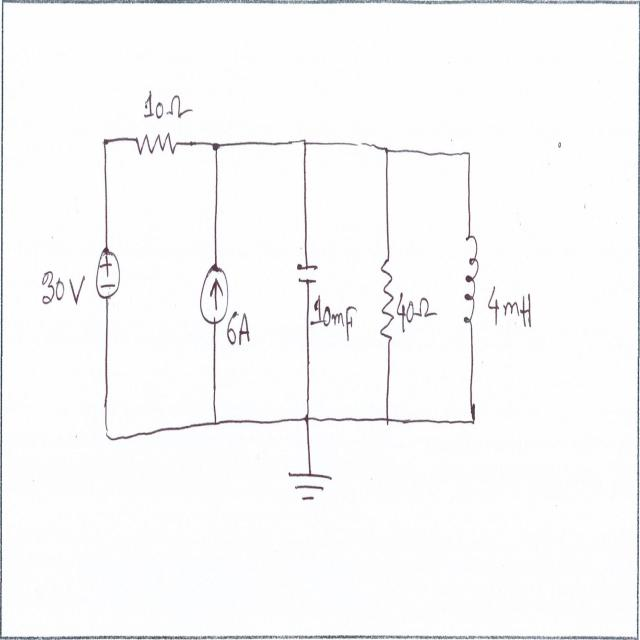capacitor: (296, 259, 319, 288)
current_source: (198, 262, 230, 326)
ground: (286, 465, 335, 506)
inductor: (462, 230, 481, 328)
resistor: (378, 256, 397, 342), (135, 125, 177, 160)
voltage_source: (95, 247, 123, 302)
